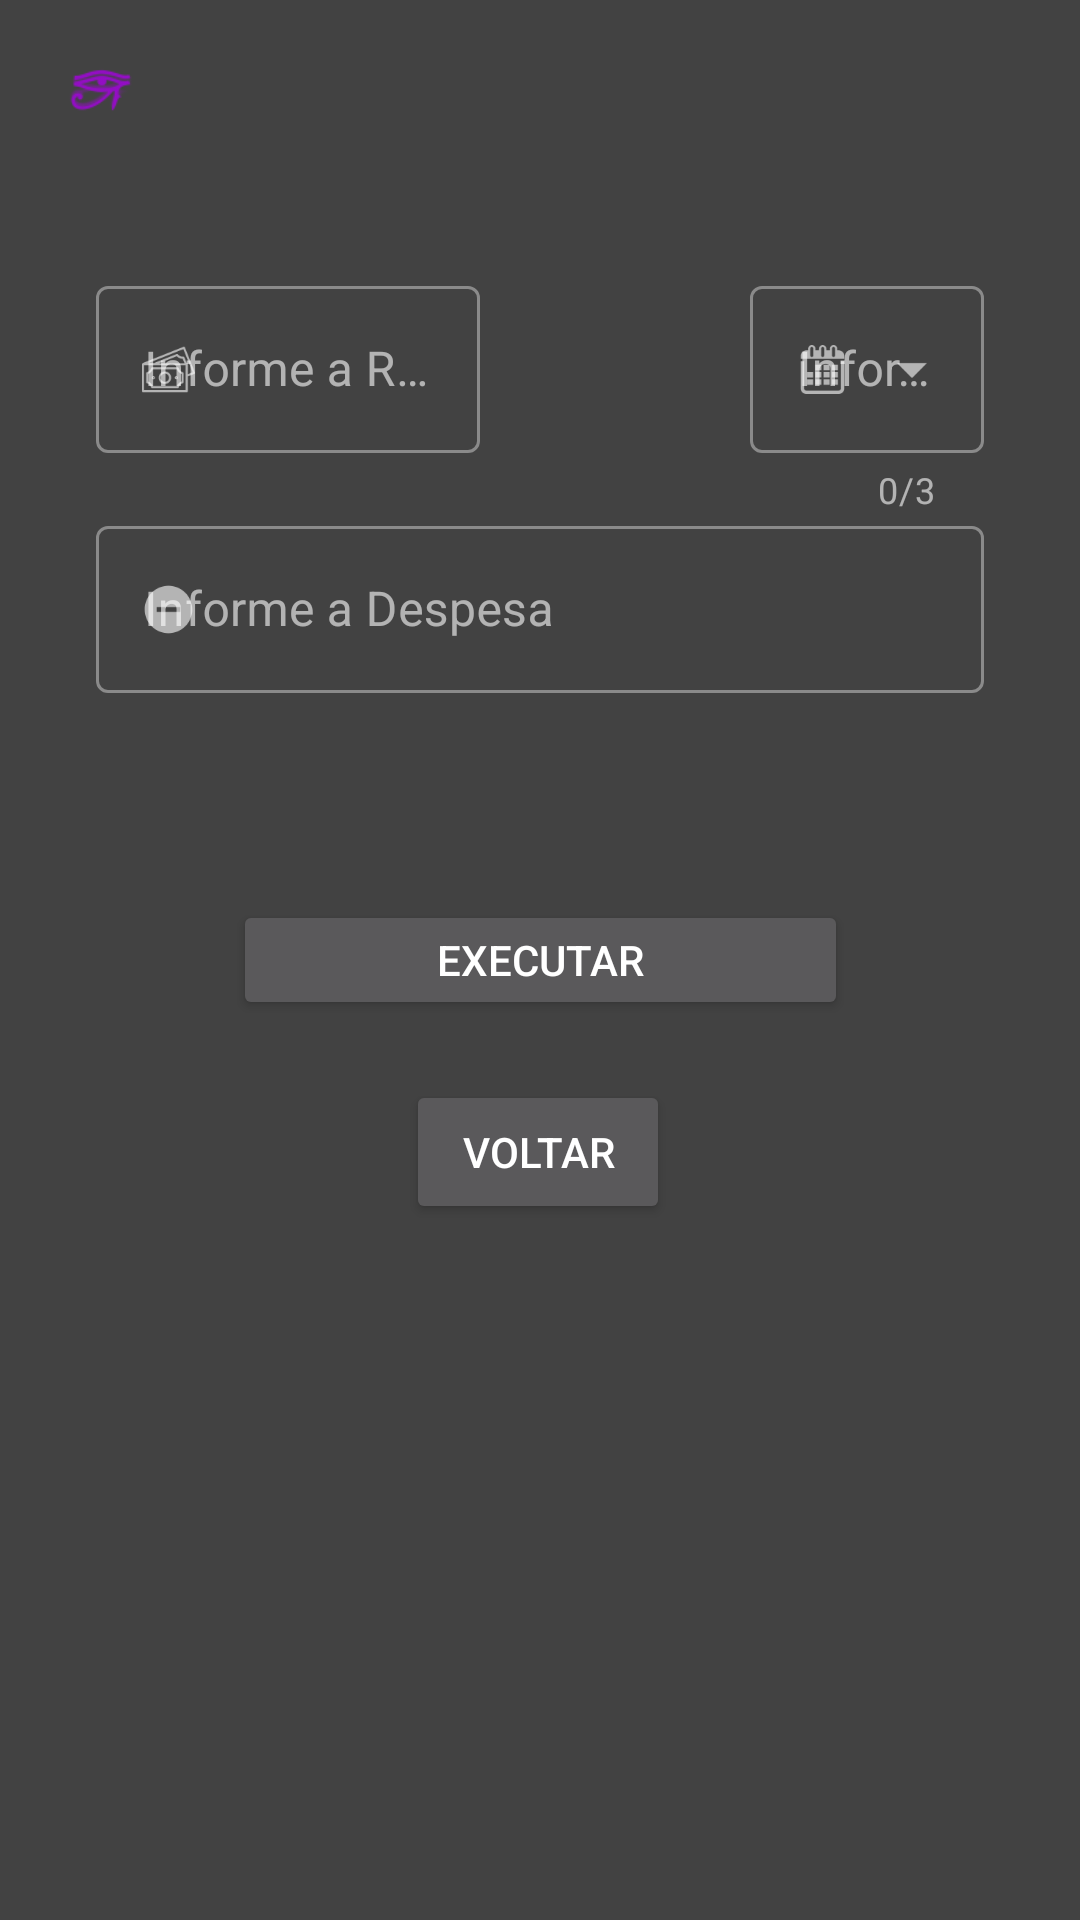

Where to tap for icons on this 1080×1920 app screen, as [x,y]:
so olho: [101,90]
